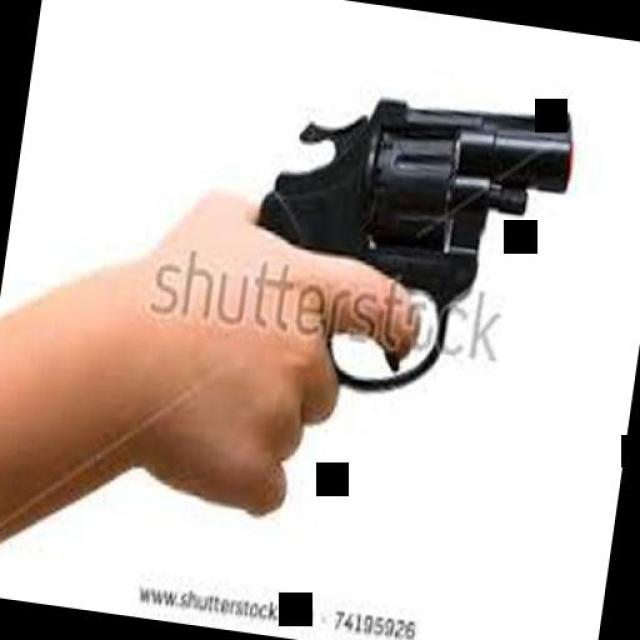gun: (217, 39, 588, 421)
